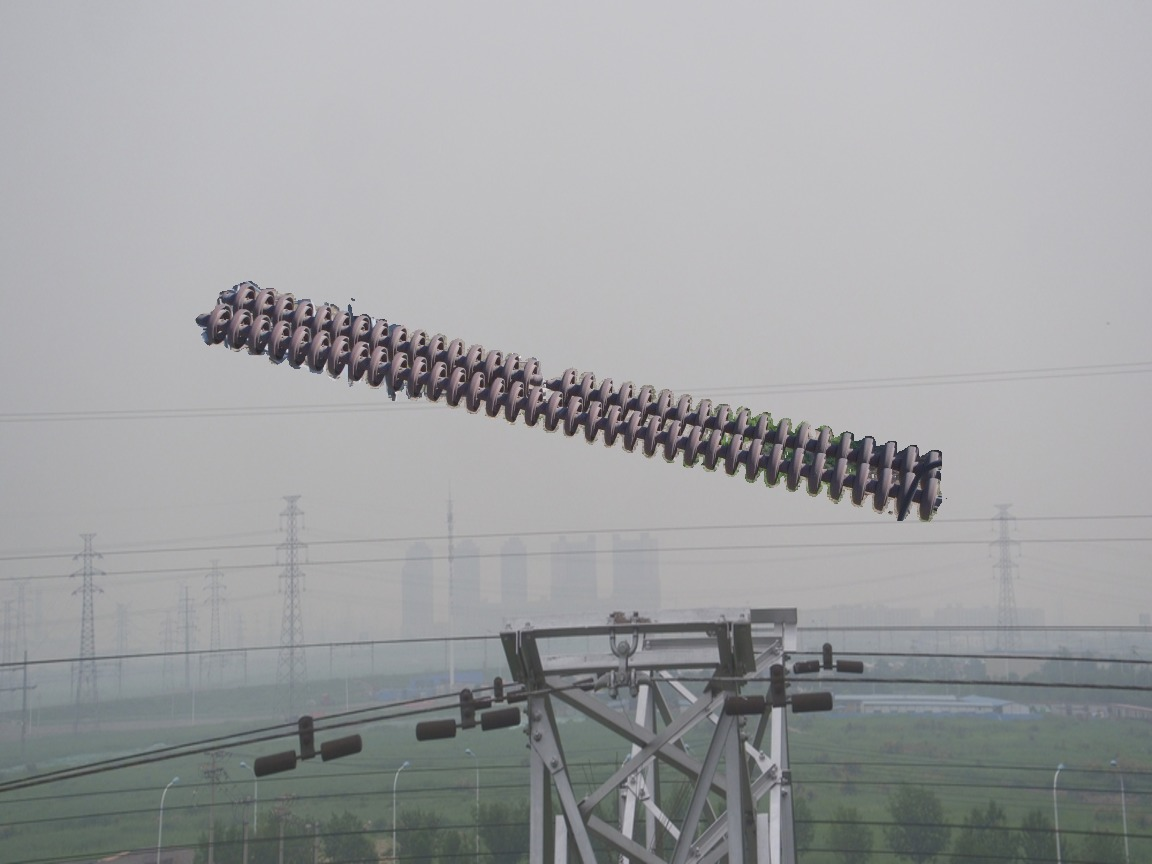defect: (523, 352, 581, 394)
